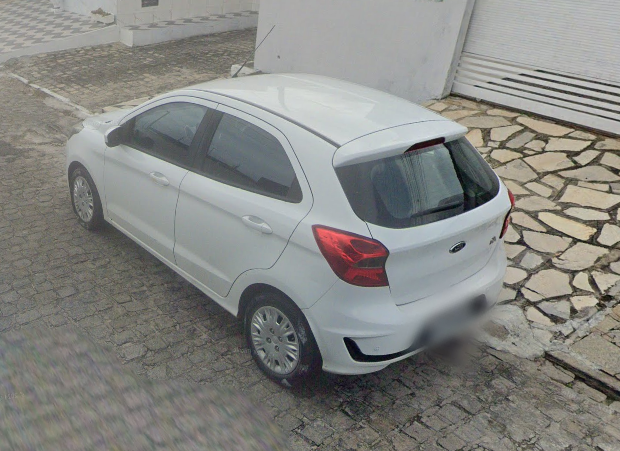car: (62, 20, 516, 389)
